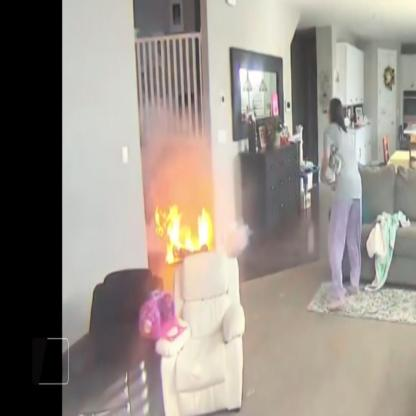fire: (155, 204, 213, 263)
